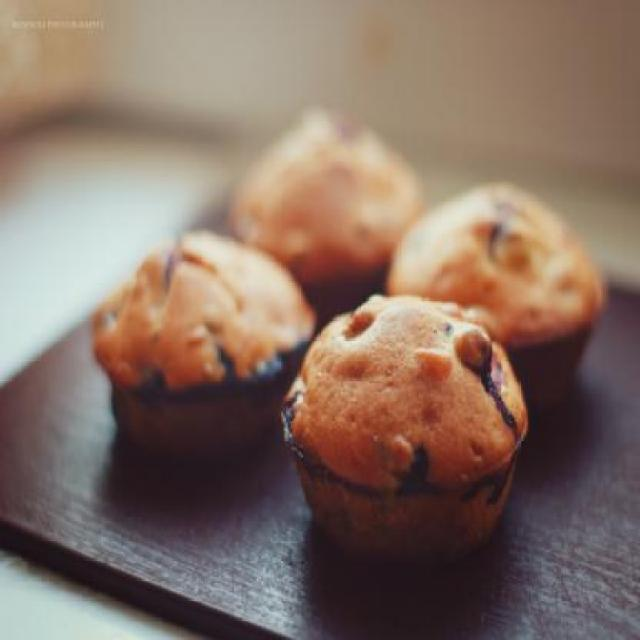Muffin: (278, 296, 530, 558), (390, 174, 602, 414), (94, 226, 314, 457), (228, 108, 427, 337)
